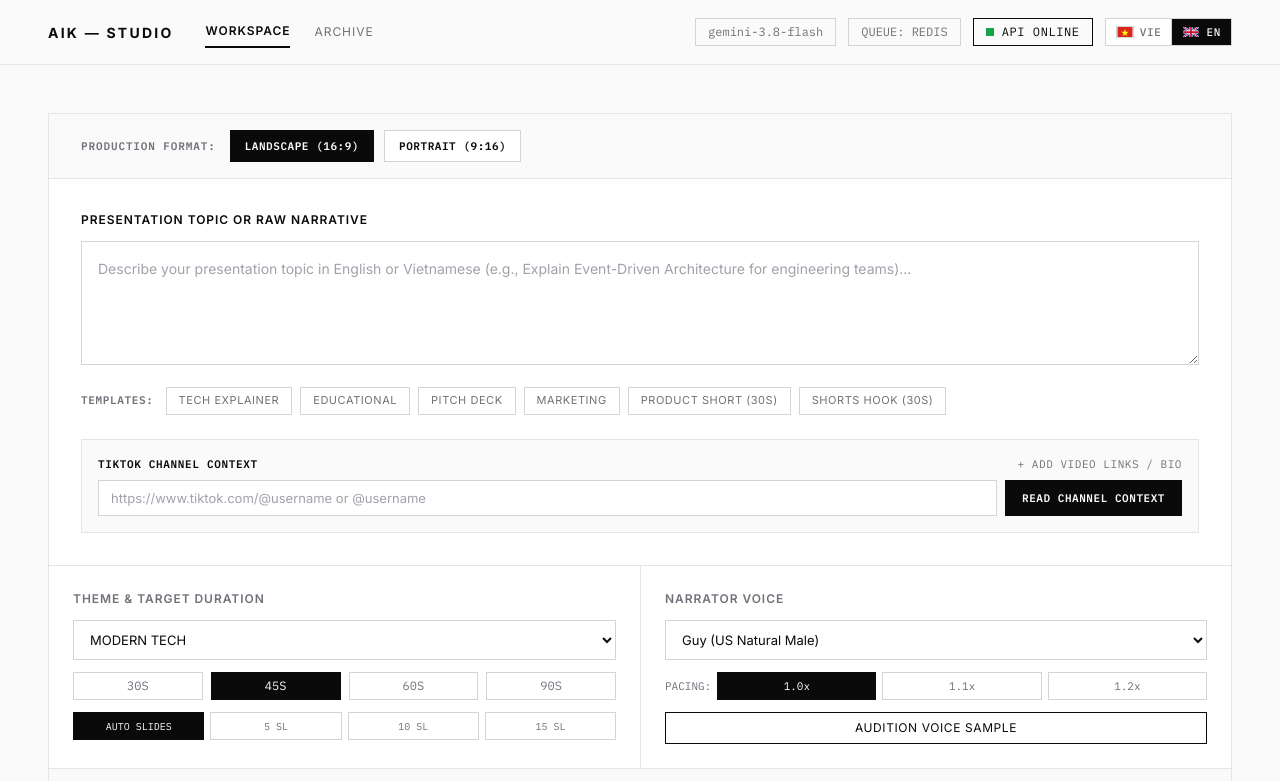
Interactive Web Studio User Flows (jsdom + Testing Library) › detects Vietnamese prompt pasted while English language is active and syncs UI + voice via 1-click button
Step 1. Type "Hướng dẫn sử dụng điện toán đám mây" into the text box labelled "Presentation Topic or Raw Narrative" → (640, 303), box [81,241,1199,365]
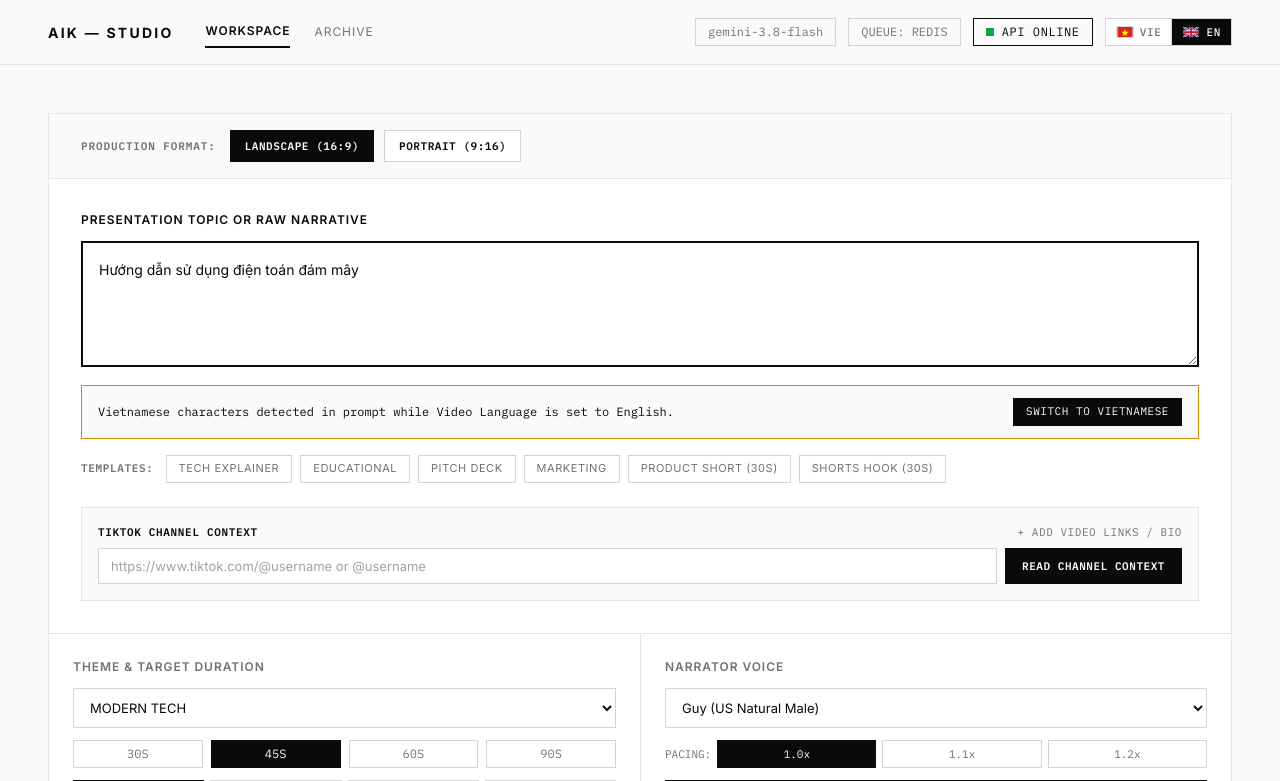
Expected: the element with test id "language-mismatch-warning" is shown, [81,385,1199,439]
Step 2. Click the button with test id "switch-to-vi-btn" → (1098, 412), box [1013,398,1182,426]
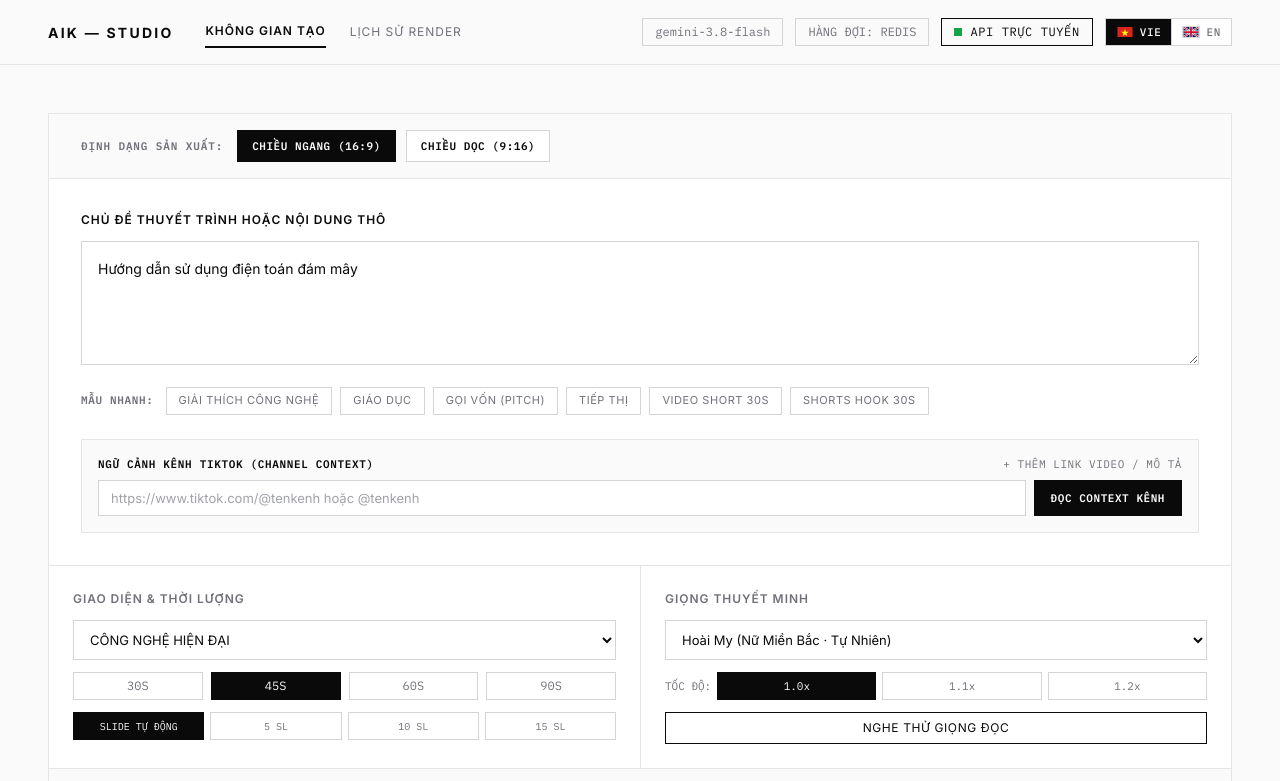
Expected: the element with test id "language-mismatch-warning" is gone
Expected: the dropdown named "Narrator Voice Selection" shows "Hoài My (Nữ Miền Bắc · Tự Nhiên)", [665,620,1207,660]
